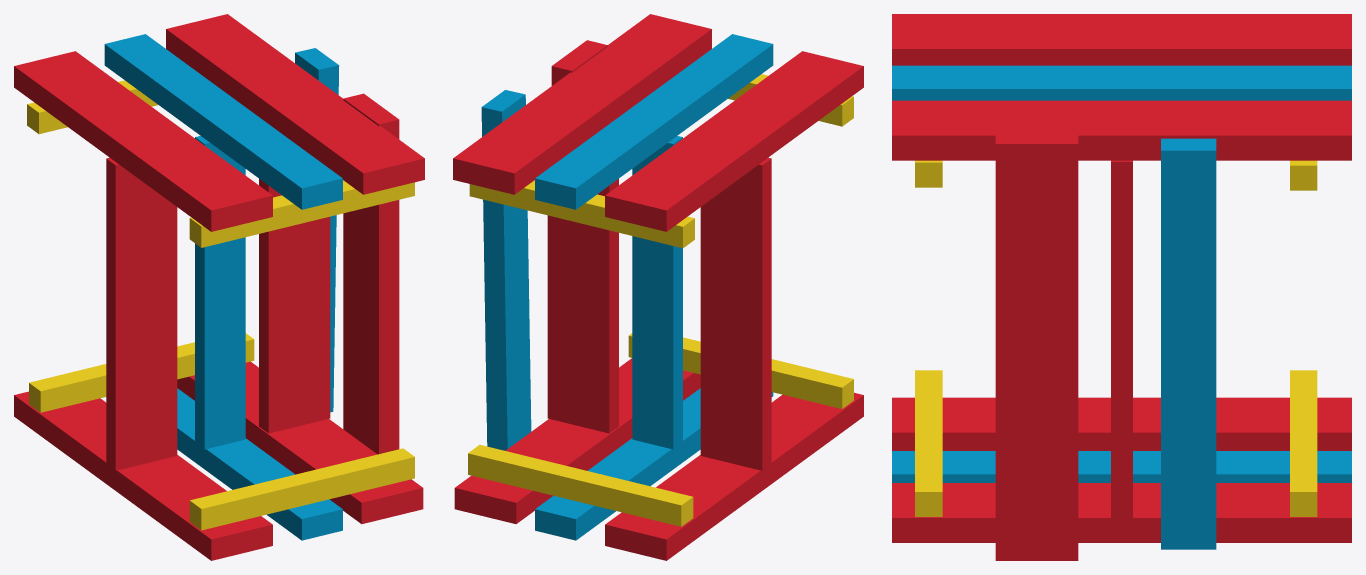
The model's file is tinker.obj.
3 renders of one model, left to right at view 1: azimuth 30°, elevation 25°; view 2: azimuth 150°, elevation 25°; view 3: azimuth 270°, elevation 25°, orthographic. The views are drawn at different scales.
Parts seen in each view (by area): view 1: group_0_15277357, group_0_40919, group_0_16768282; view 2: group_0_15277357, group_0_40919, group_0_16768282; view 3: group_0_15277357, group_0_40919, group_0_16768282.
Part boxes in pixels (<box>): group_0_15277357: <box>14,14,424,560</box>; group_0_40919: <box>104,34,342,540</box>; group_0_16768282: <box>27,80,414,530</box>; group_0_15277357: <box>453,14,863,560</box>; group_0_40919: <box>481,34,773,540</box>; group_0_16768282: <box>468,74,853,526</box>; group_0_15277357: <box>892,14,1351,560</box>; group_0_40919: <box>892,65,1351,549</box>; group_0_16768282: <box>915,160,1317,516</box>.
Bounding box in the file's own units: 143 × 200 × 200.
